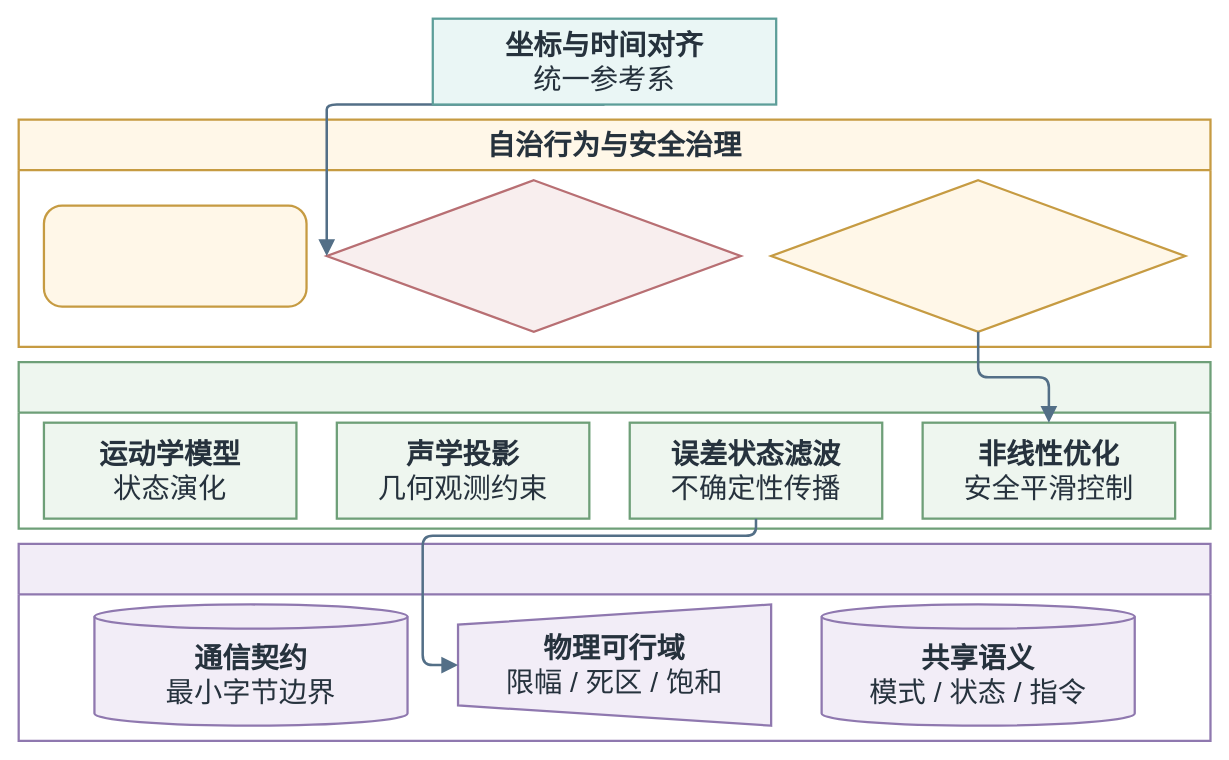
Image size: 1229x760. Some labels were removed from this diagram. Each missing label, with the box of its shape:
任务状态 阶段 / 模式 / 回退: (42, 204, 307, 307)
协议契约与物理约束: (17, 542, 1211, 742)
安全仲裁 权限 / 急停 / 降级: (325, 179, 742, 332)
数学模型与优化算法: (17, 360, 1211, 529)
行为选择 搜索 / 跟踪 / 保守: (770, 179, 1186, 332)
